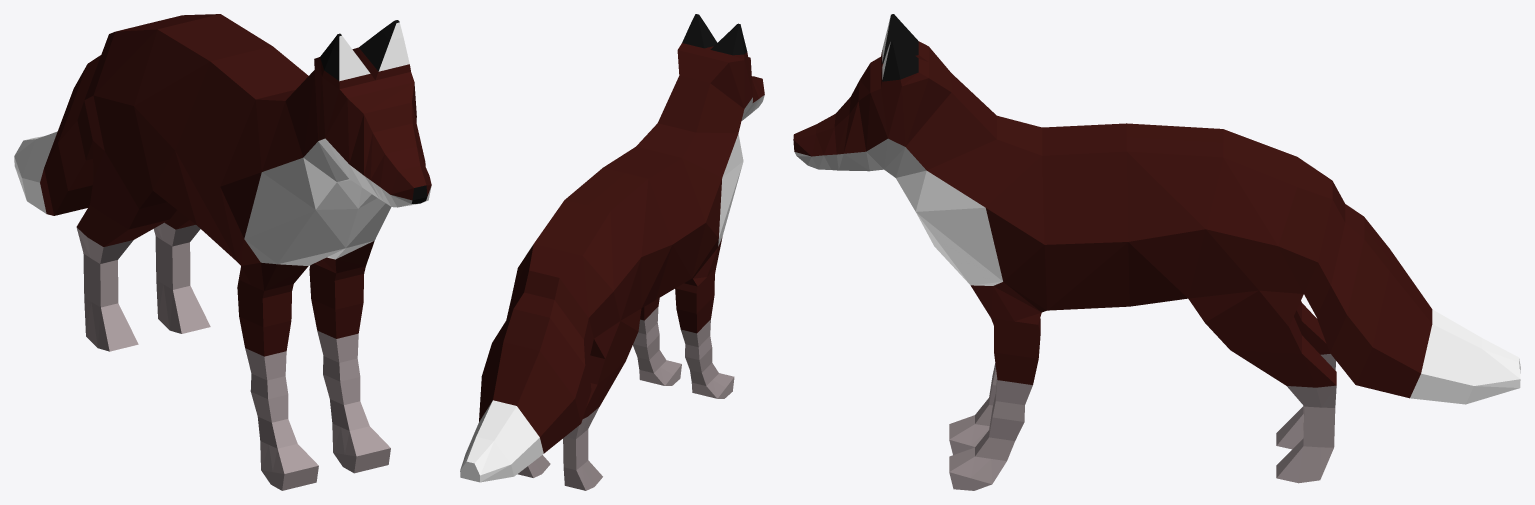
The model's file is redfoxkit.fbx.
3 renders of one model, left to right at view 1: azimuth 30°, elevation 25°; view 2: azimuth 150°, elevation 25°; view 3: azimuth 270°, elevation 25°, orthographic. The views are drawn at different scales.
Visible parts, largest first — view 1: RedFoxKit; view 2: RedFoxKit; view 3: RedFoxKit.
Boxes of the visible parts, x1=… form: RedFoxKit: x1=14, y1=14, x2=431, y2=490; RedFoxKit: x1=460, y1=14, x2=764, y2=490; RedFoxKit: x1=793, y1=14, x2=1520, y2=490.
Bounding box in the file's own units: 0.1157 × 0.4005 × 0.6004.
